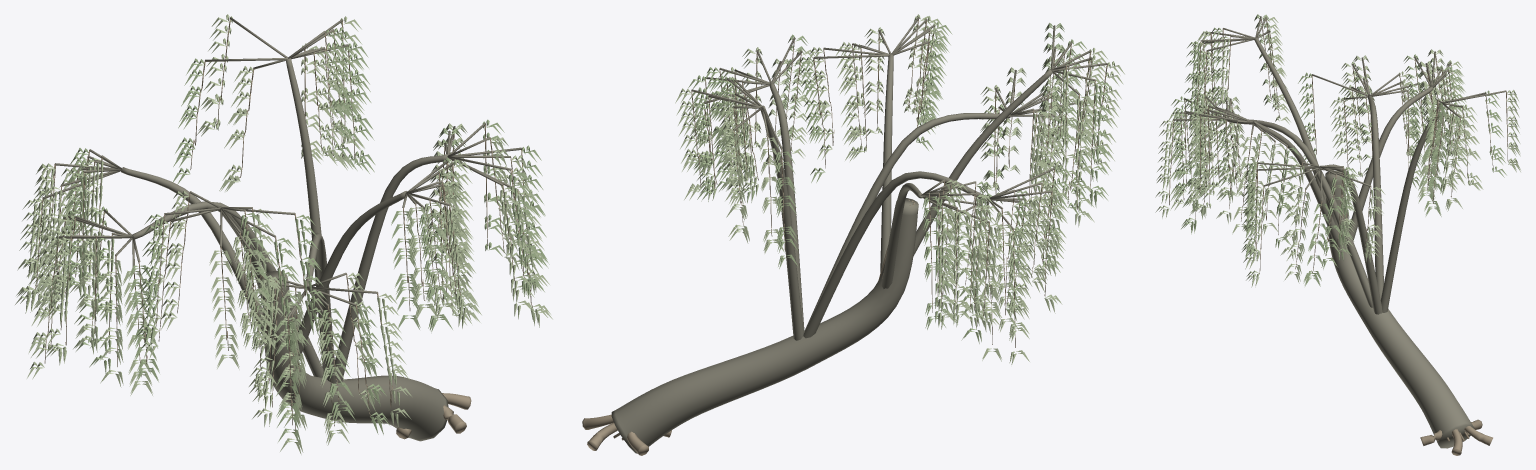
File: grove-willow-4.glb
The picture shows the model from 3 angles, left to right: view 1: azimuth 30°, elevation 25°; view 2: azimuth 150°, elevation 25°; view 3: azimuth 270°, elevation 25°; orthographic projection. The views are drawn at different scales.
Visible parts, largest first — view 1: grove-willow-4; view 2: grove-willow-4; view 3: grove-willow-4.
Boxes of the visible parts, box(x1,y1,x2,y2) form: grove-willow-4: box(15, 14, 552, 454); grove-willow-4: box(582, 14, 1124, 455); grove-willow-4: box(1155, 14, 1520, 455).
Bounding box in the file's own units: 8.13 × 7.11 × 7.54.
